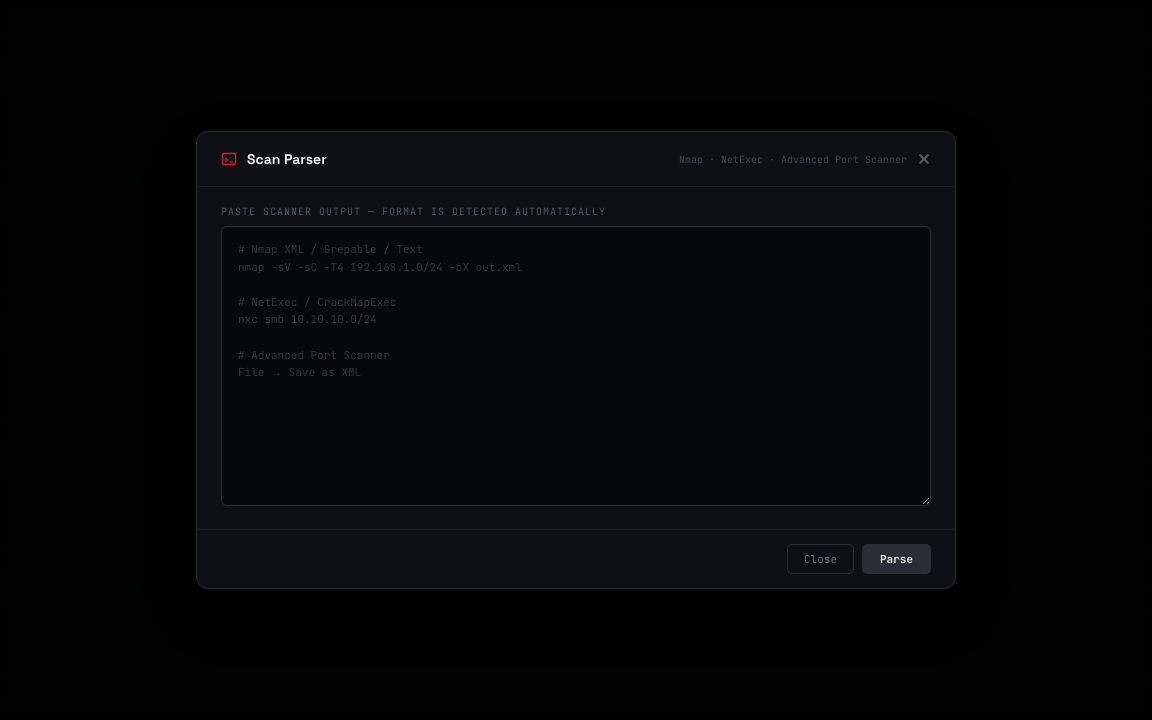
Test case: NmapParser › shows "No hosts found" for unparseable input
Replace the text in the text box with "just some random text with no hosts" at (576, 366), box [221,226,931,506]
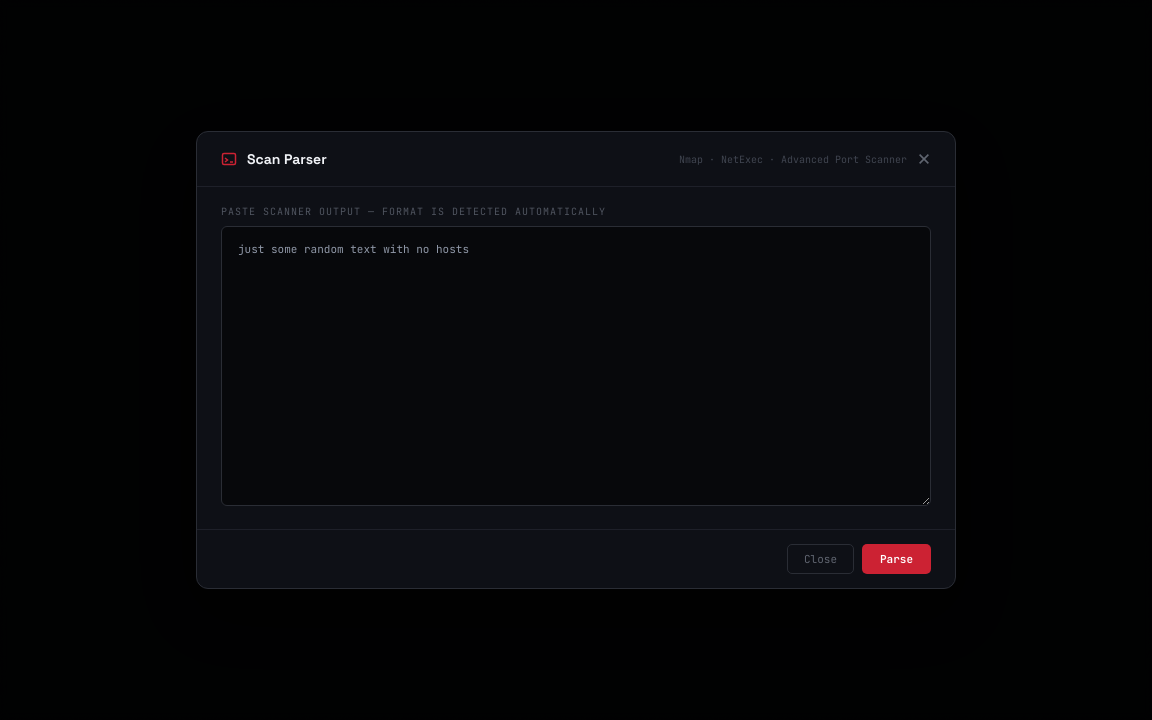
Click the button "Parse" at (896, 559), box [862,544,931,574]
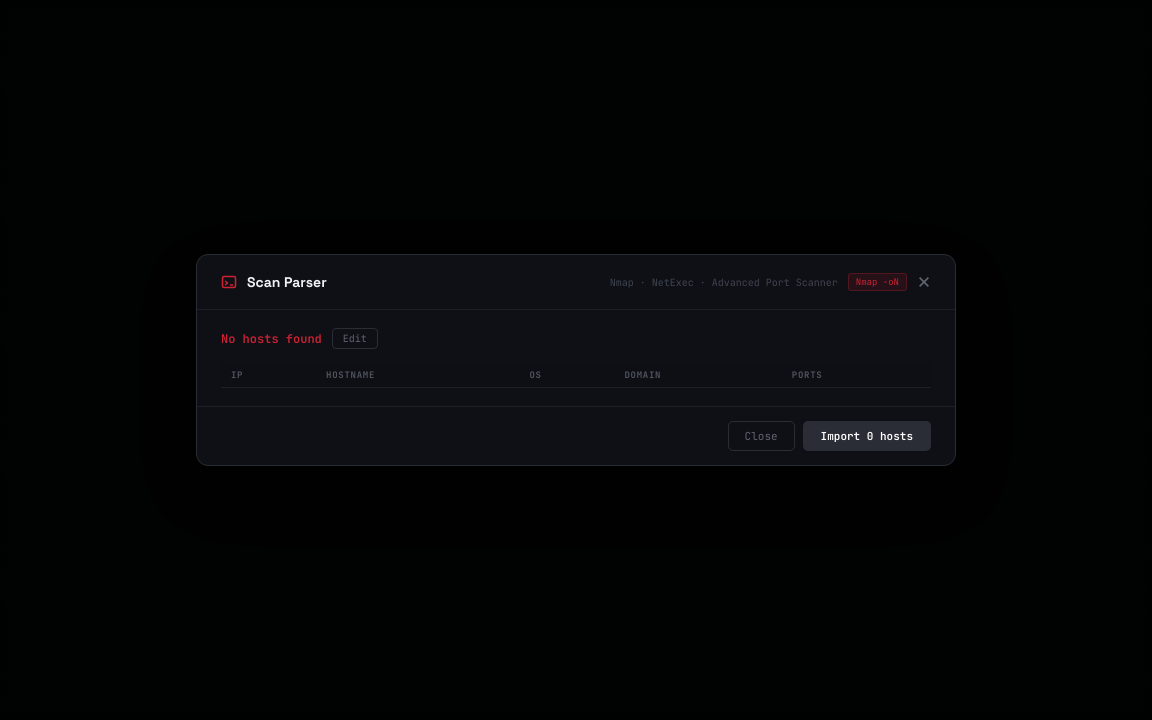
Check: the text "No hosts found" is shown, box [221,330,322,346]
